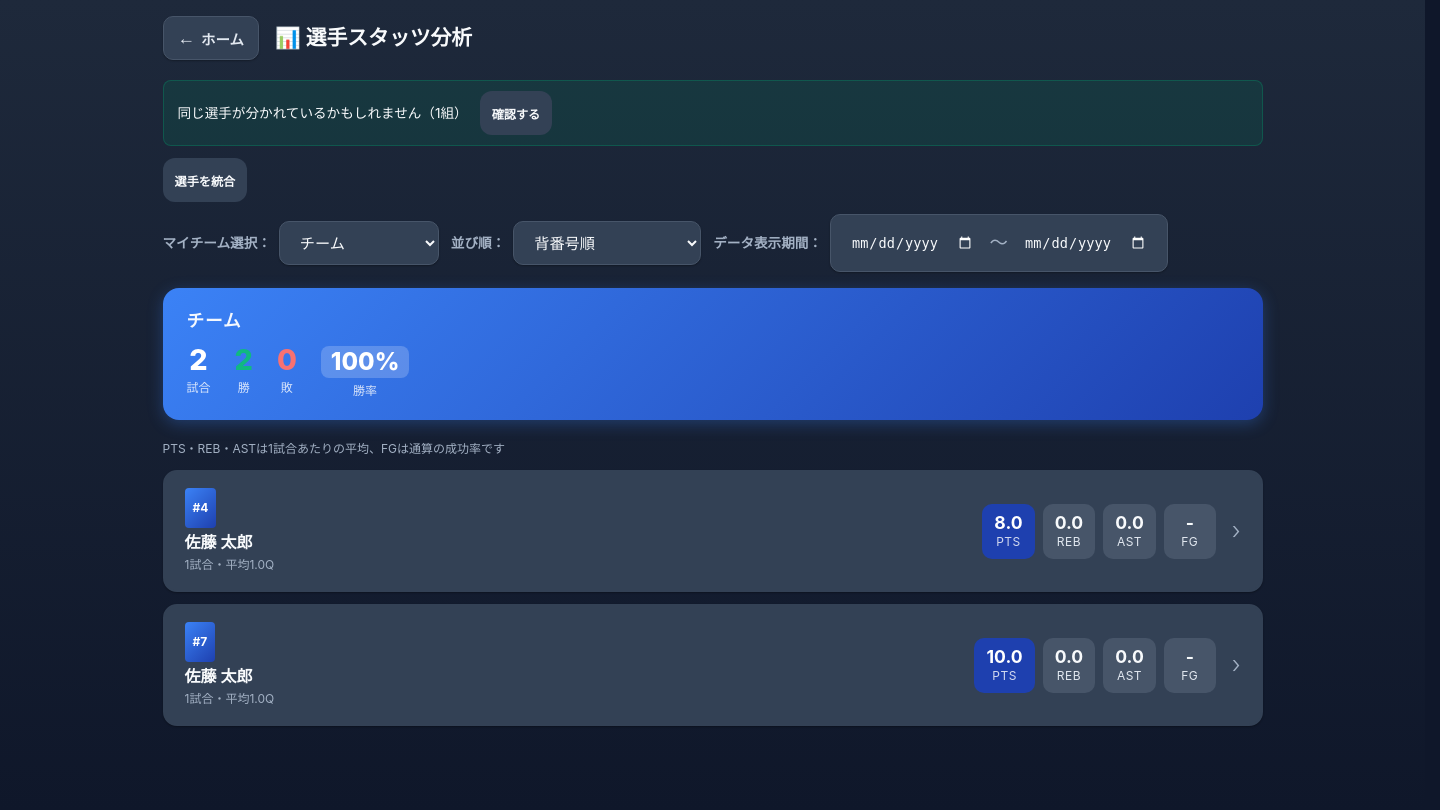
Scenario: 統合の流れ › 選択モードで2枚選んで統合すると1枚になる
The width and height of the screenshot is (1440, 810).
Click the button "選手を統合": (205, 180) [162,158,247,202]
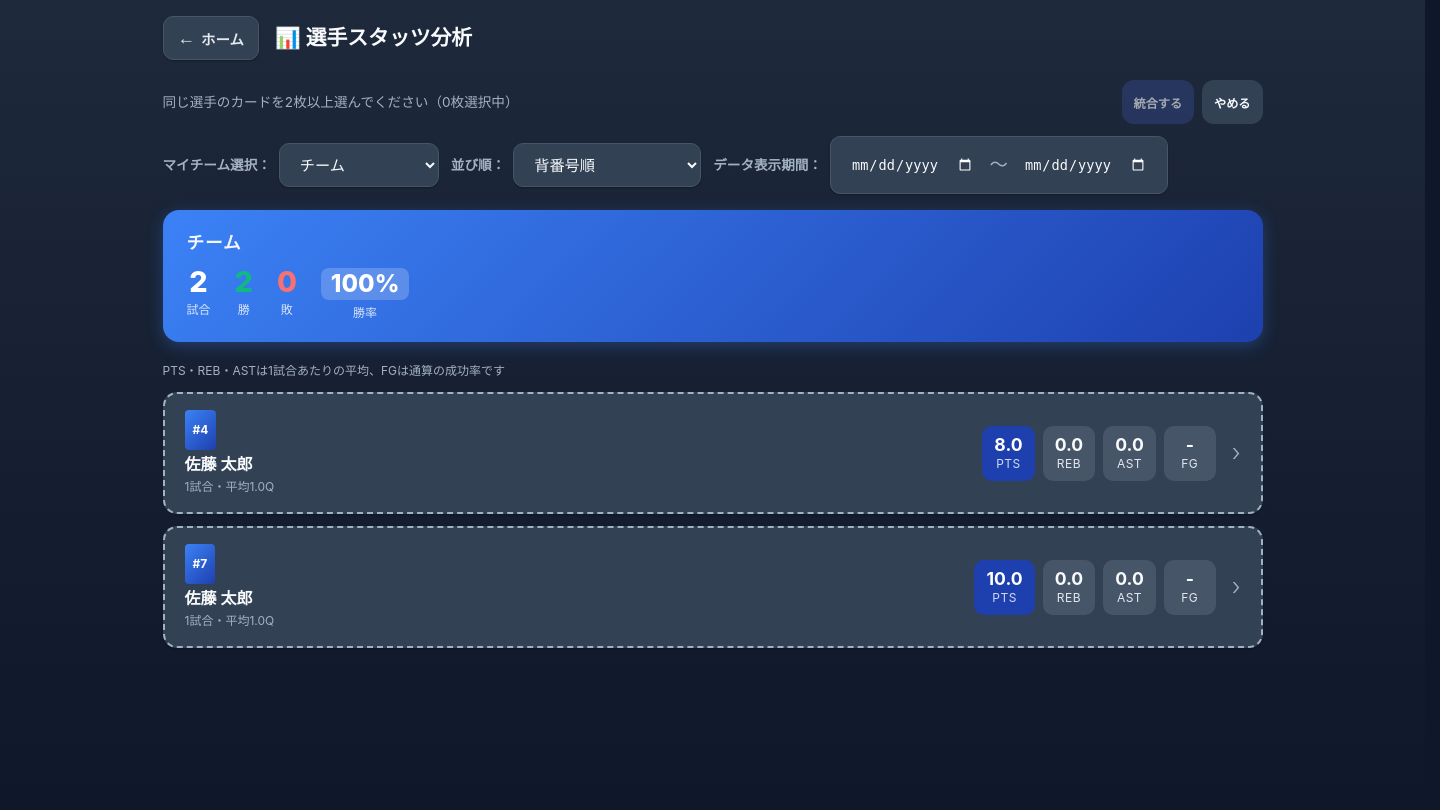
Click the button "#4 佐藤 太郎 1試合平均1.0Q 8.0 PTS 0.0 REB 0.0 AST - FG ›": (200, 430) [162,392,1262,514]
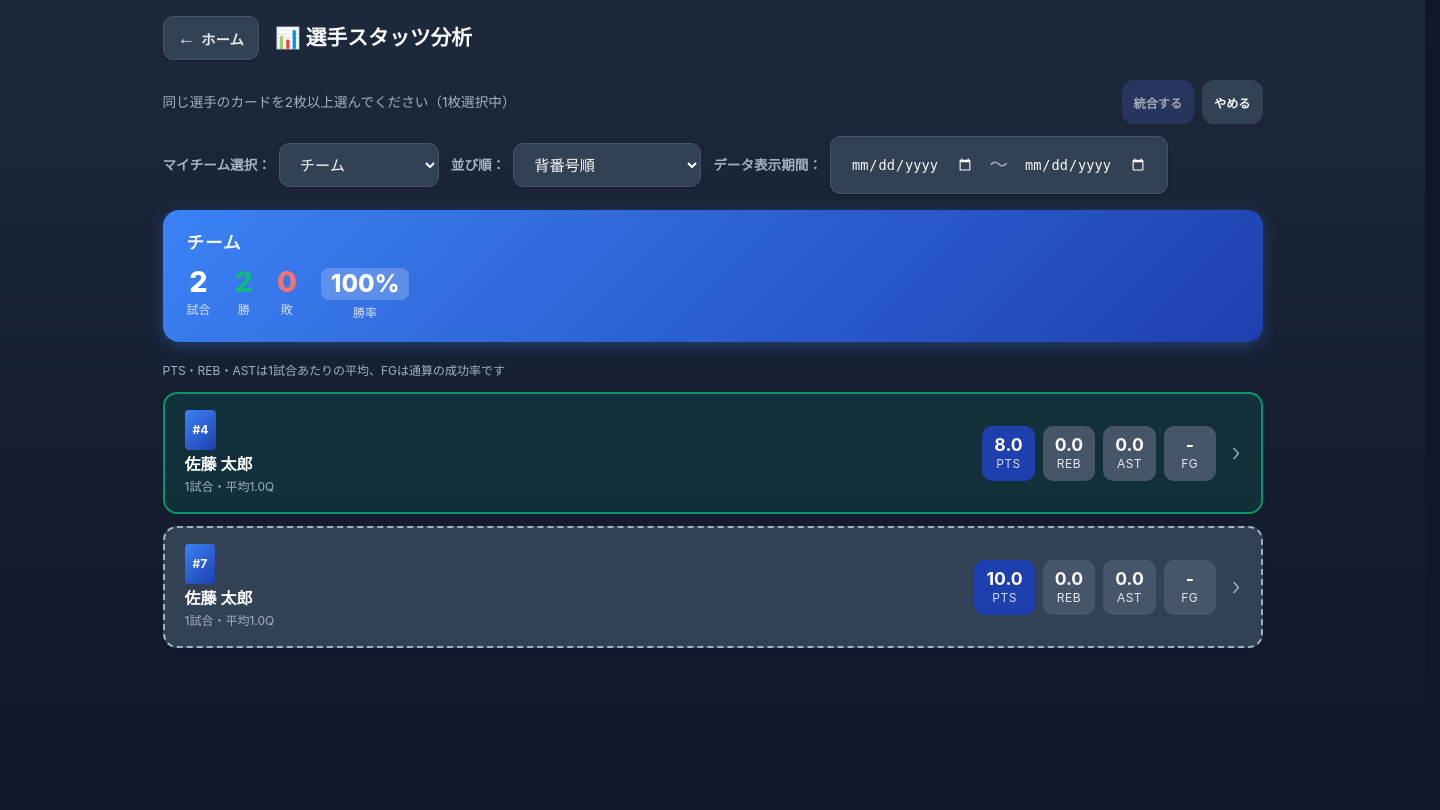
Click the button "#7 佐藤 太郎 1試合平均1.0Q 10.0 PTS 0.0 REB 0.0 AST - FG ›": (200, 564) [162,526,1262,648]
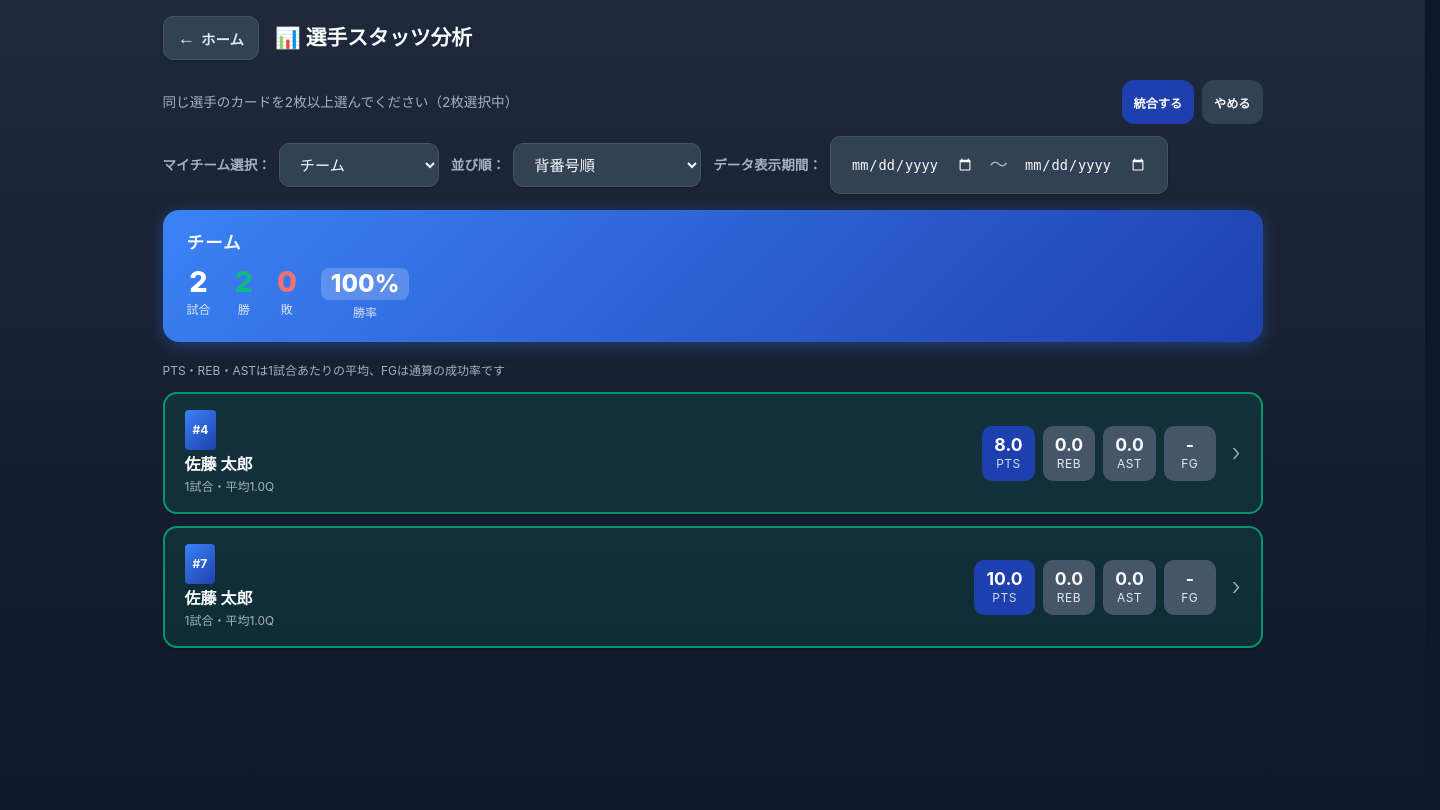
Click the button "統合する": (1158, 102) [1122,80,1194,124]
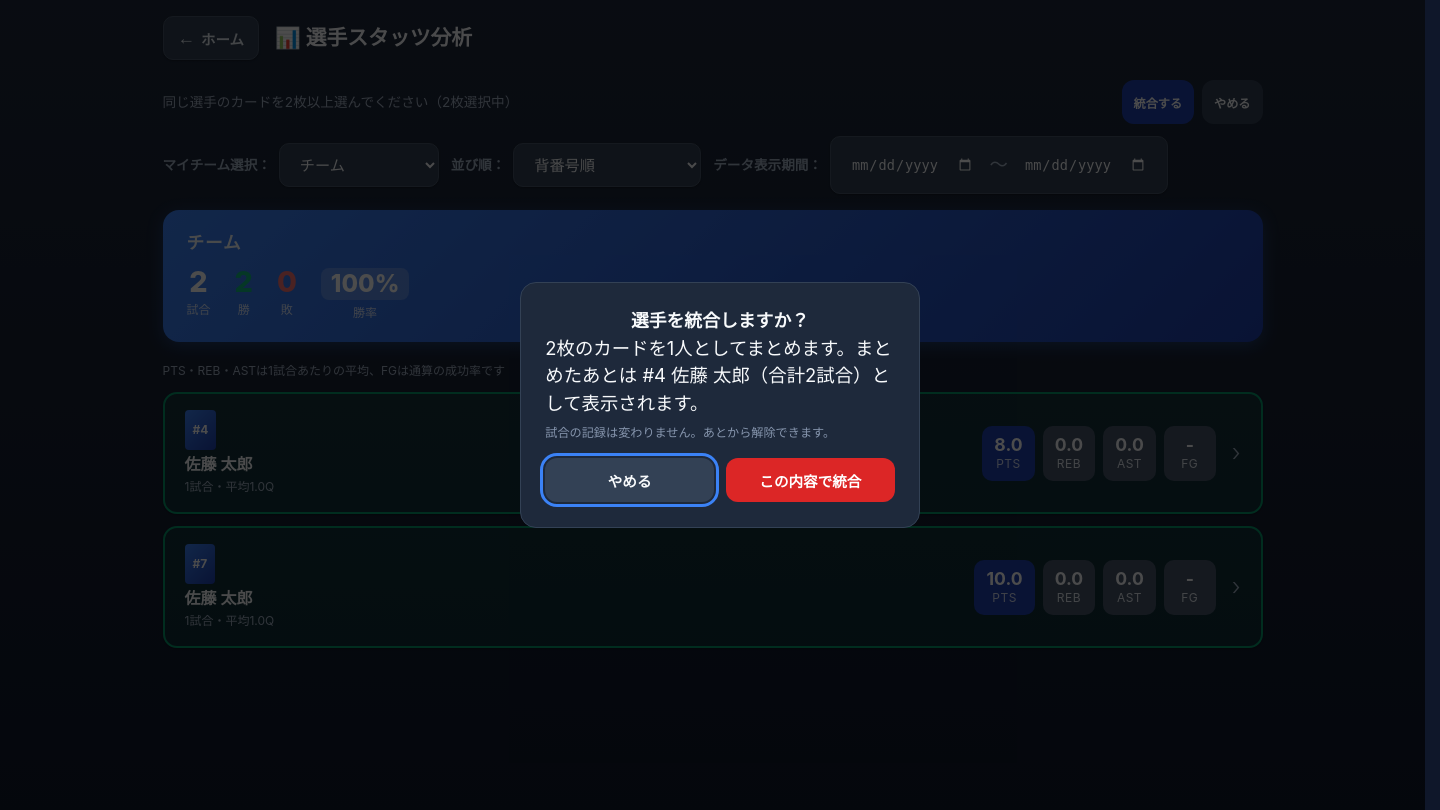
Click the button "この内容で統合": (810, 480) [726,458,895,502]
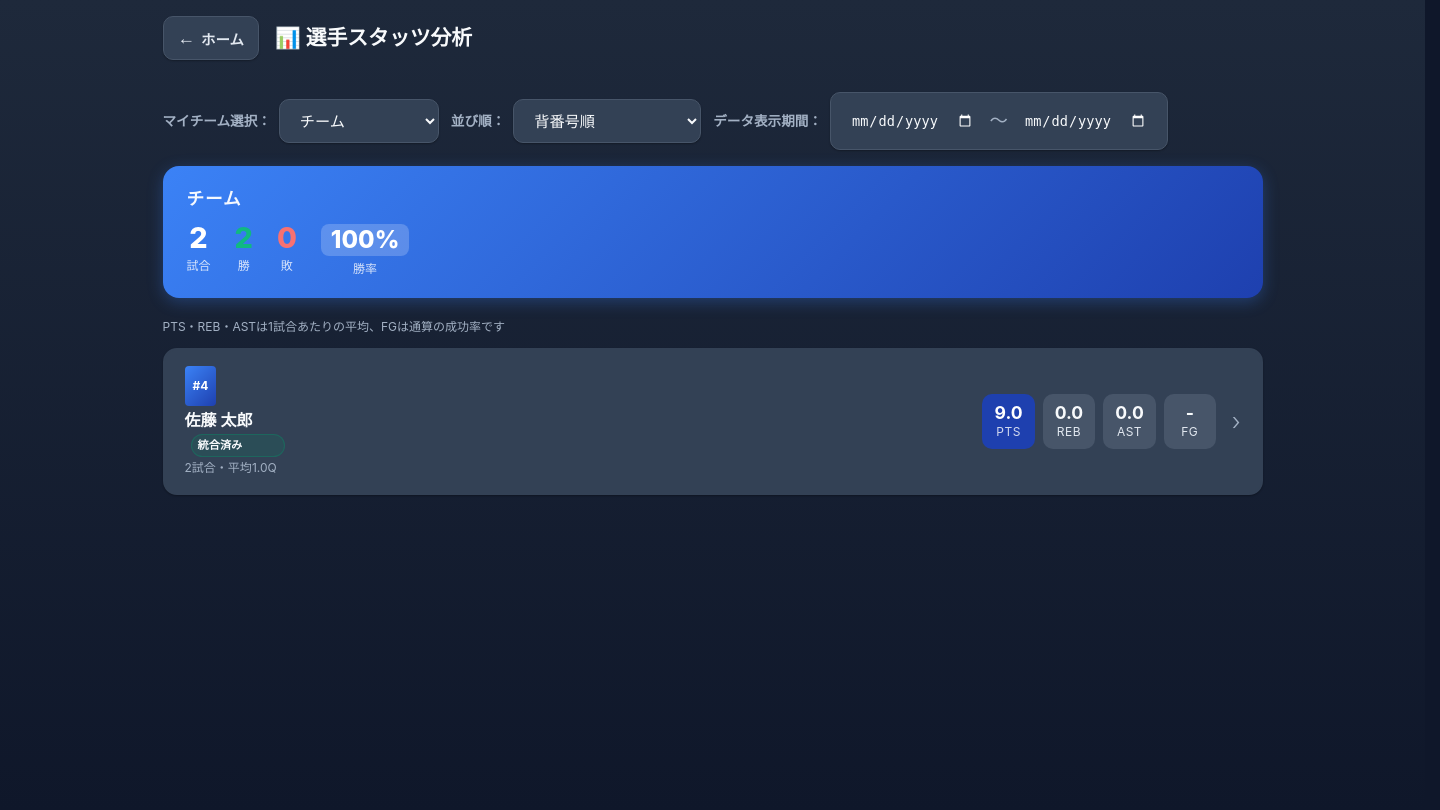
Expected: the text "統合済み" is shown once, [190,434,284,457]
